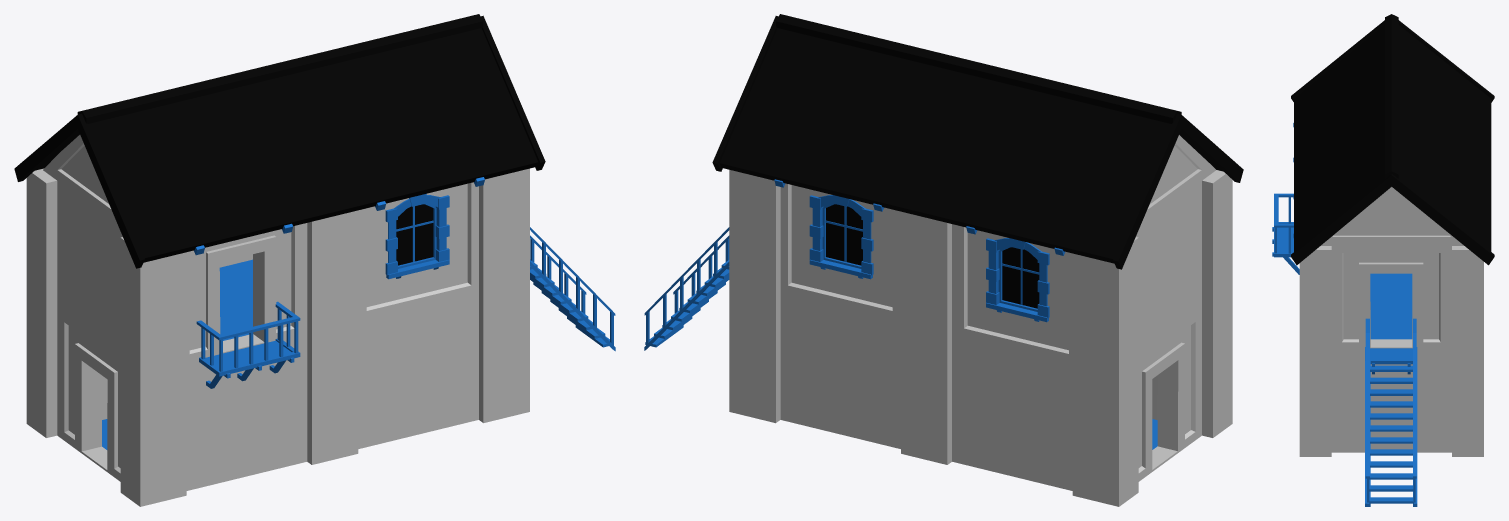
The model's file is SM_observation_tower.fbx.
3 views of the same model, side by side, from view 1: azimuth 30°, elevation 25°; view 2: azimuth 150°, elevation 25°; view 3: azimuth 270°, elevation 25° (orthographic). The views are drawn at different scales.
Visible parts, largest first — view 1: Cloner_2, Cube_6; view 2: Cloner_2, Cube_6; view 3: Cloner_2, Cube_6.
Part boxes in pixels (x1,y1,x2,y2): Cloner_2: (26, 135, 615, 506); Cube_6: (14, 14, 545, 268); Cloner_2: (644, 135, 1232, 506); Cube_6: (712, 14, 1243, 269); Cloner_2: (1272, 123, 1483, 506); Cube_6: (1291, 14, 1494, 265).
Size of the model in its own units: 1286 by 835 by 585.
